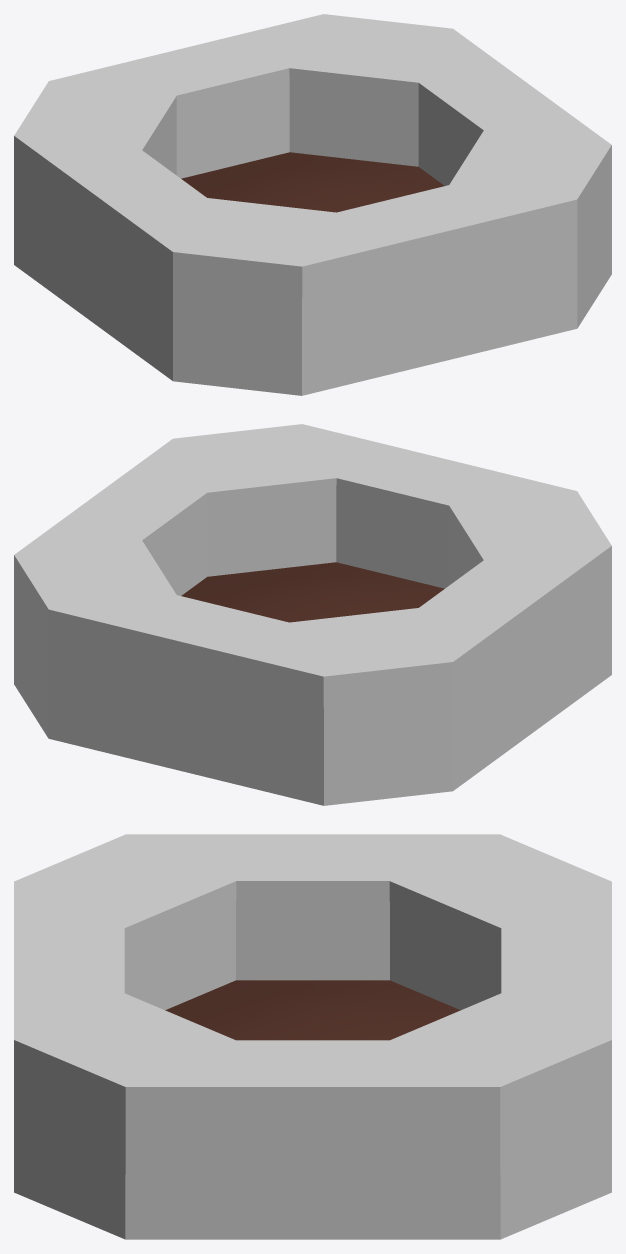
File: Pot_1m.fbx
The picture shows the model from 3 angles, top to bottom: view 1: azimuth 30°, elevation 25°; view 2: azimuth 150°, elevation 25°; view 3: azimuth 270°, elevation 25°; orthographic projection. The views are drawn at different scales.
Visible parts, largest first — view 1: Pot_1m; view 2: Pot_1m; view 3: Pot_1m.
Part boxes in pixels (x1,y1,x2,y2): Pot_1m: (14, 14, 611, 395); Pot_1m: (14, 424, 611, 805); Pot_1m: (14, 834, 611, 1239).
Size of the model in its own units: 1 by 0.2813 by 1.
